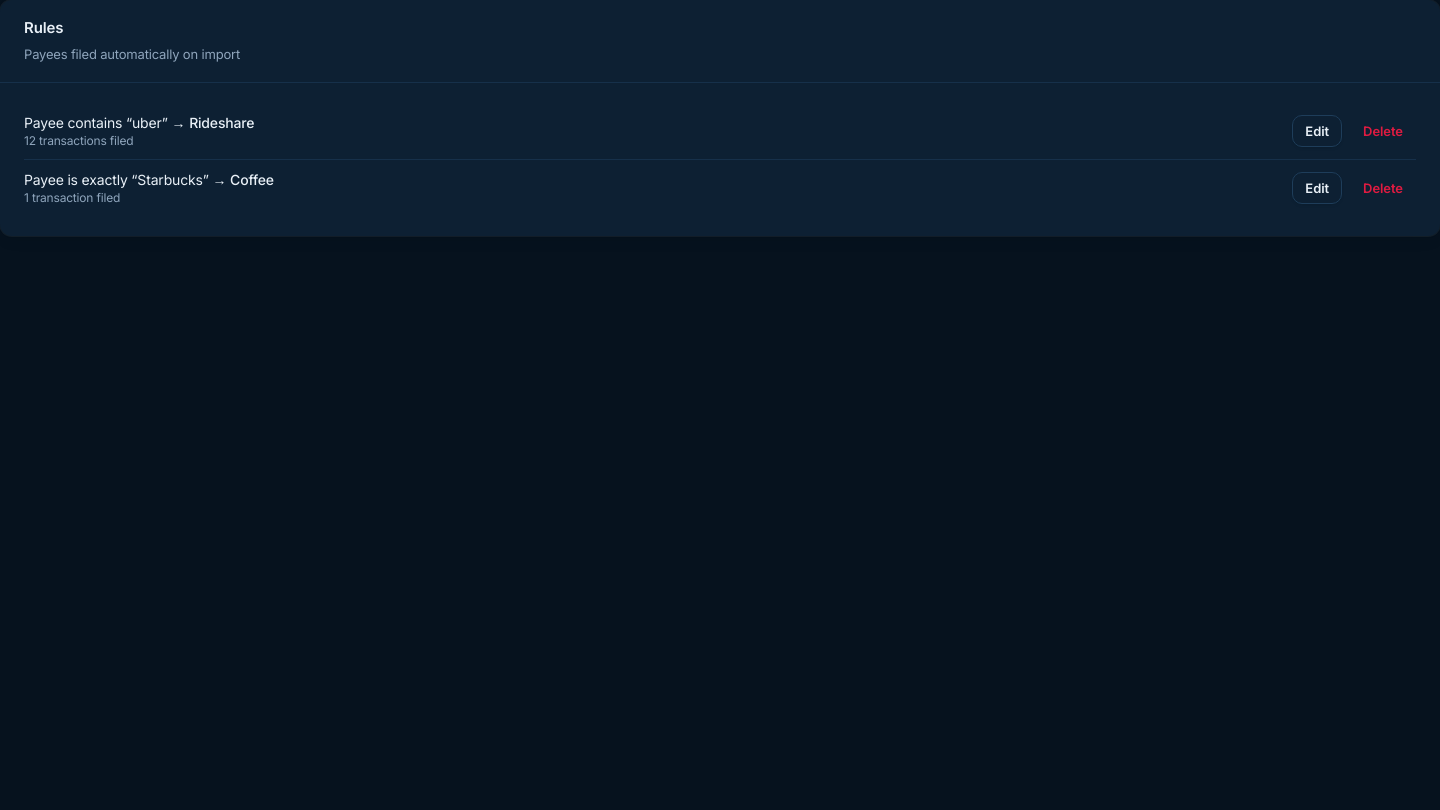
Test: CategoryRulesSection (BUD-24) › edits a rule in the dialog, prefilled
Click the button with aria-label "Edit rule uber": point(1317, 131) x1=1292 y1=115 x2=1342 y2=147
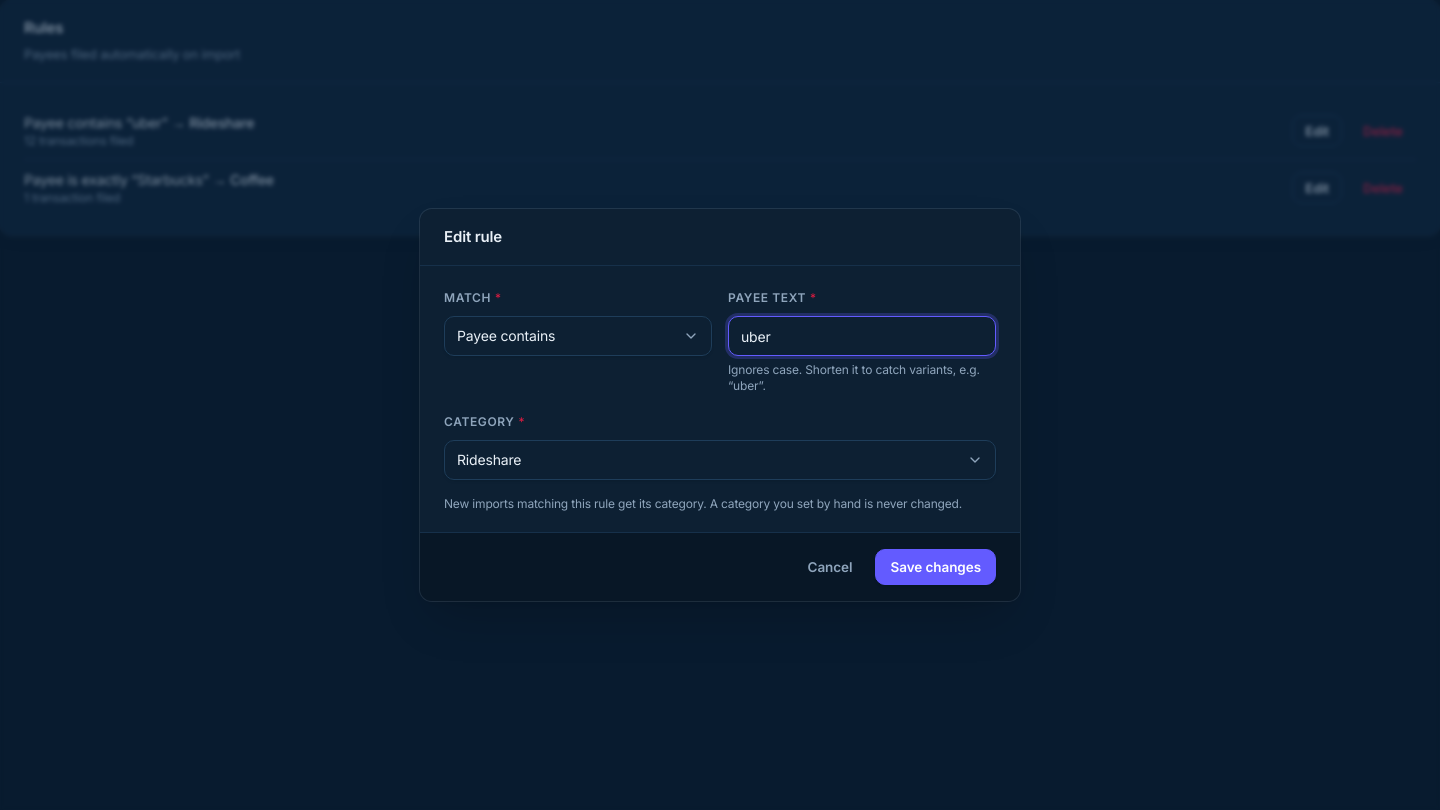
expect the field labelled "Payee text*" holds "uber": met
Replace the text in the field labelled "Payee text*" with "uber trip": point(862, 336) x1=728 y1=316 x2=996 y2=356
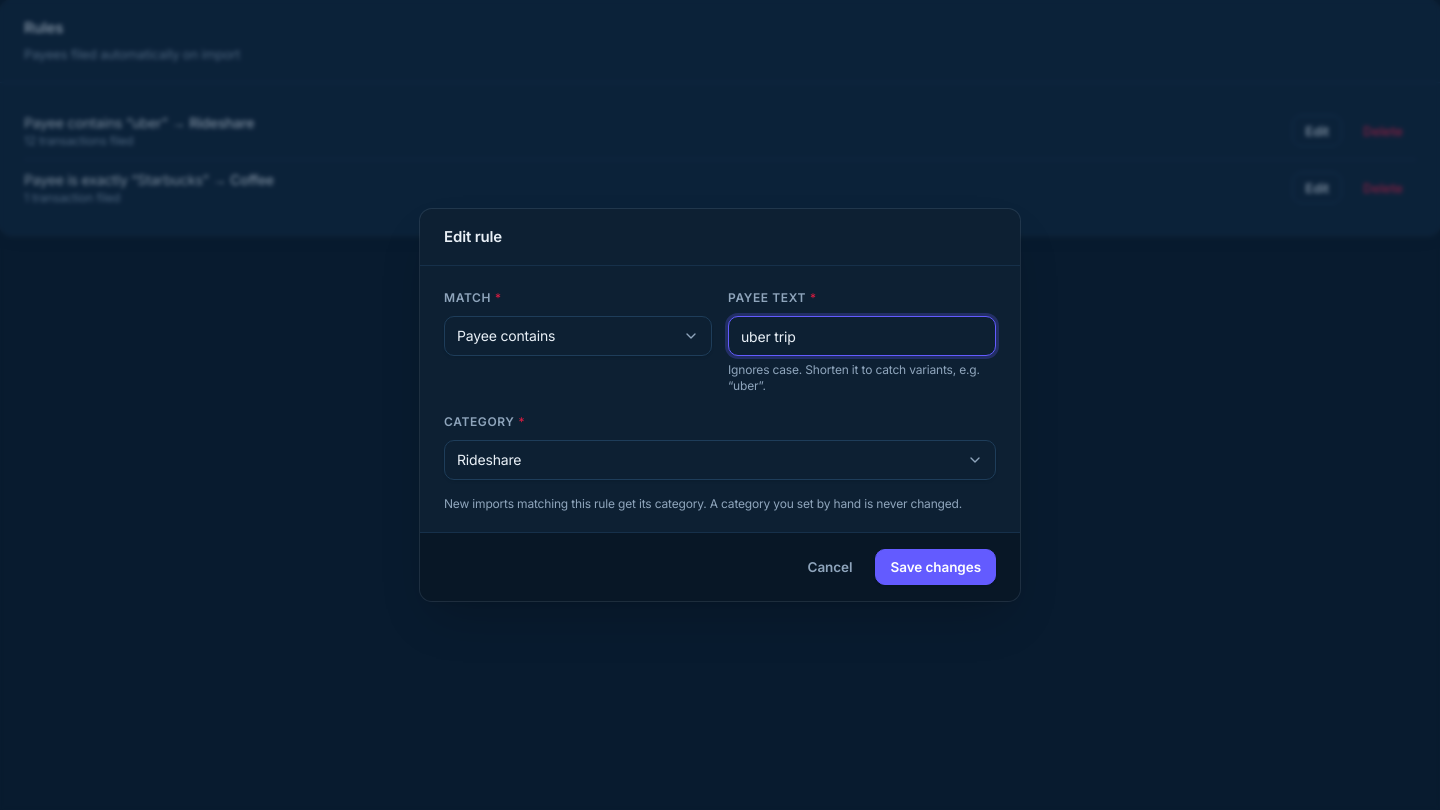
Click the button "Save changes": point(936, 567) x1=876 y1=549 x2=996 y2=585
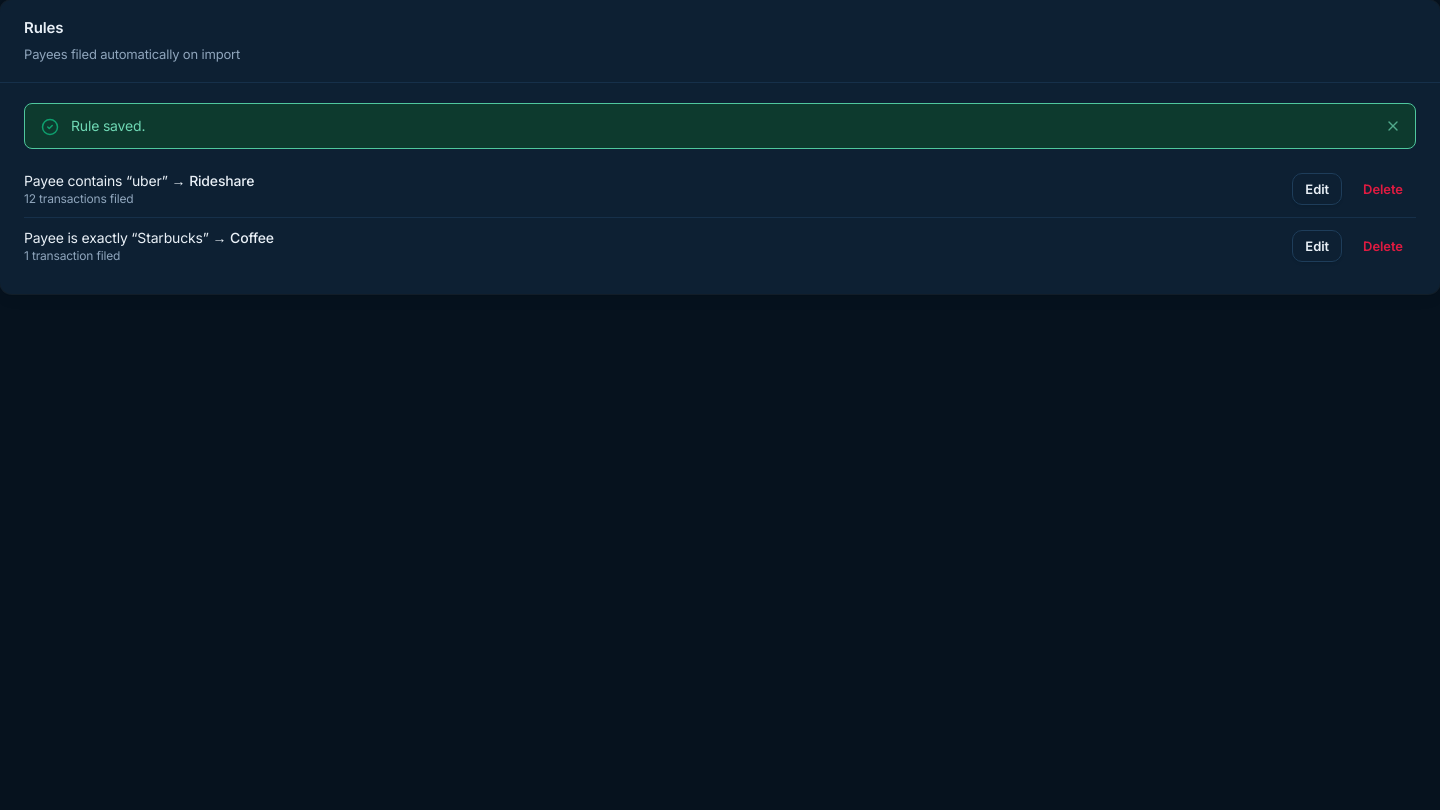
expect the text "Rule saved." is shown: met, box x1=71 y1=117 x2=145 y2=134
